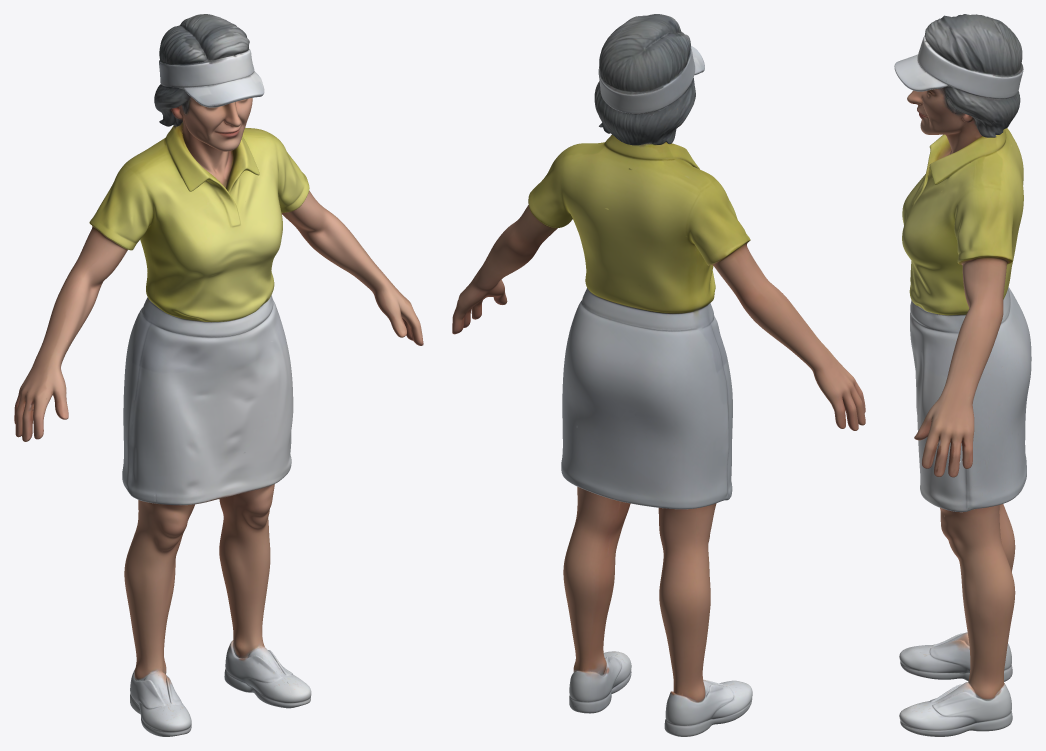
The picture shows the model from 3 angles, left to right: view 1: azimuth 30°, elevation 25°; view 2: azimuth 150°, elevation 25°; view 3: azimuth 270°, elevation 25°; orthographic projection.
Visible parts, largest first — view 1: node_0; view 2: node_0; view 3: node_0.
Part boxes in pixels (box(x1,y1,x2,y2)): node_0: box(14, 14, 423, 736); node_0: box(452, 14, 865, 736); node_0: box(894, 14, 1031, 736).
Bounding box in the file's own units: 23455 × 38271 × 6952.
Materials: 1 (1 with a texture image).
